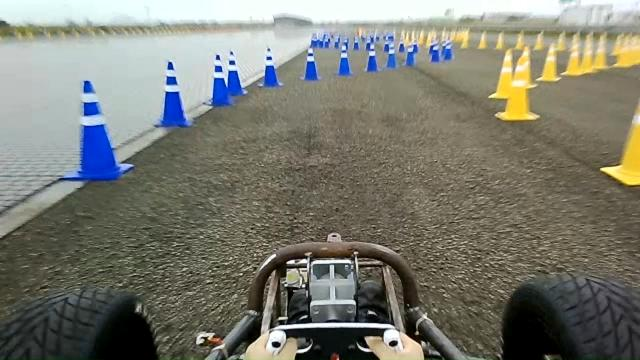blue cone: (58, 79, 134, 181), (154, 60, 192, 127), (258, 47, 283, 88), (301, 47, 320, 81), (336, 43, 353, 76), (386, 45, 398, 68)
yellow cone: (600, 97, 640, 186), (488, 48, 513, 100), (536, 42, 561, 82), (561, 41, 585, 80), (513, 46, 533, 87)
